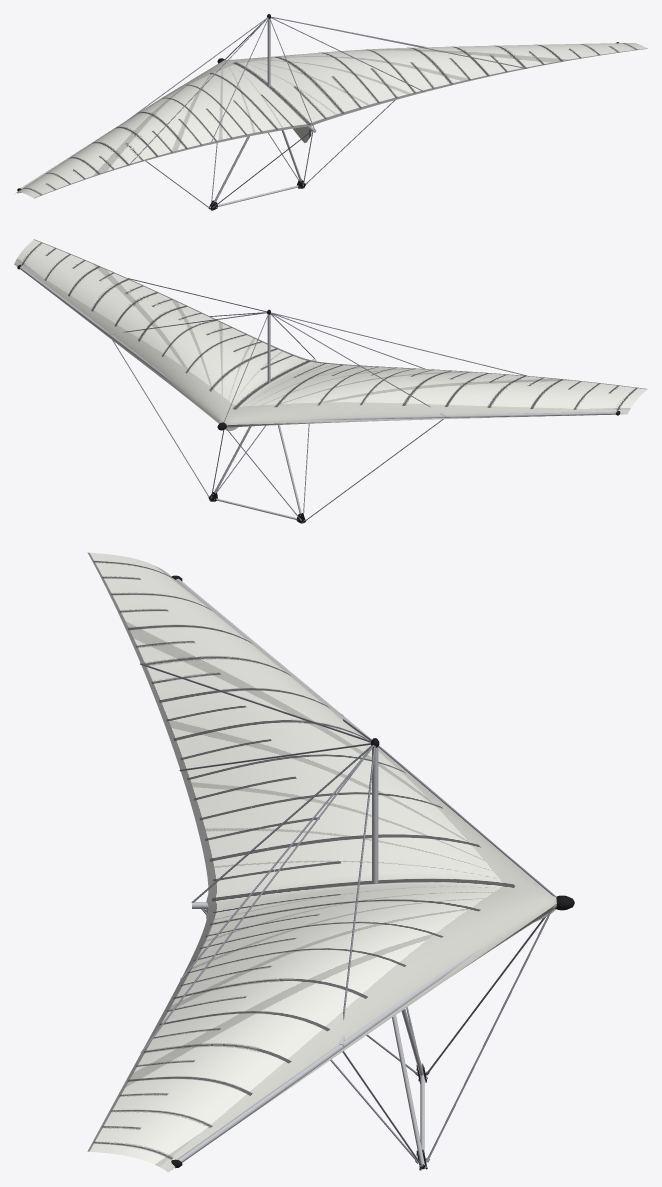
The model's file is glider_apogee.glb.
3 renders of one model, top to bottom at view 1: azimuth 30°, elevation 25°; view 2: azimuth 150°, elevation 25°; view 3: azimuth 270°, elevation 25°, orthographic. The views are drawn at different scales.
Parts seen in each view (by area): view 1: Sail, Frame, ControlFrame; view 2: Sail, Frame, ControlFrame; view 3: Sail, Frame, ControlFrame.
Part boxes in pixels (x1,y1,x2,y2): Sail: (15,43,647,198); Frame: (17,14,619,193); ControlFrame: (145,100,395,210); Sail: (14,239,647,430); Frame: (17,264,622,430); ControlFrame: (112,340,443,523); Sail: (87,552,556,1171); Frame: (140,575,574,1169); ControlFrame: (201,909,551,1170).
Bounding box in the file's own units: 9.9 × 2.99 × 3.4.
Materials: 7 (1 with a texture image).
